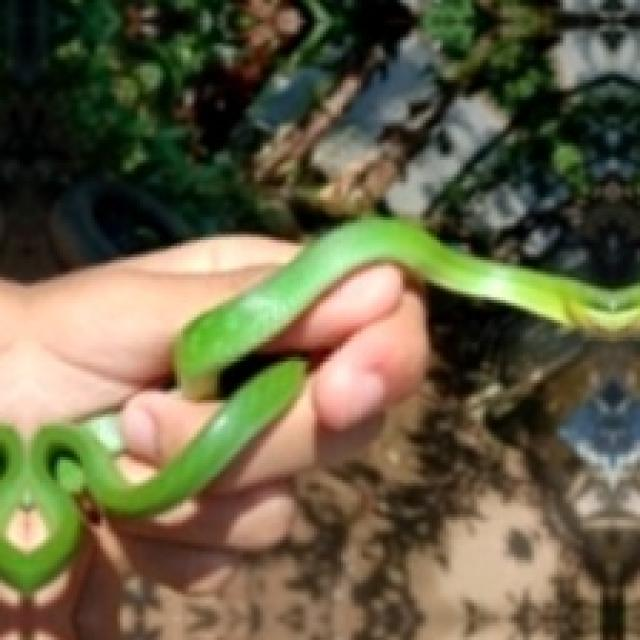red-tailed green ratsnake: (174, 219, 640, 397), (0, 356, 308, 589)
